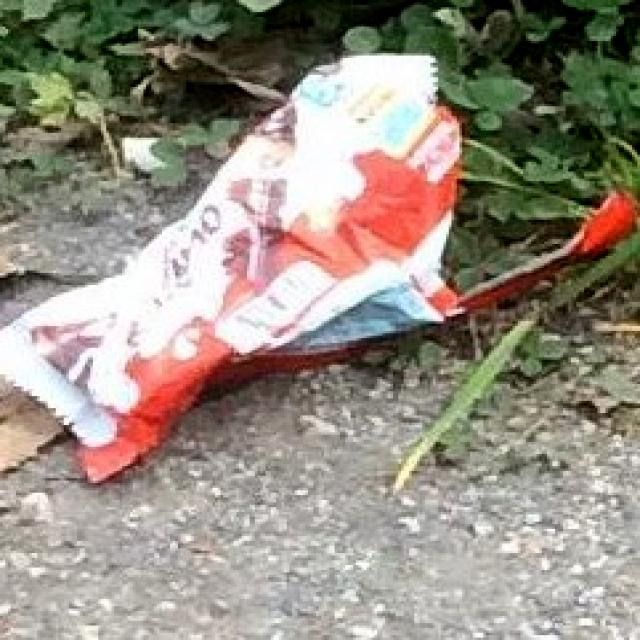Trash: (0, 46, 637, 499)
